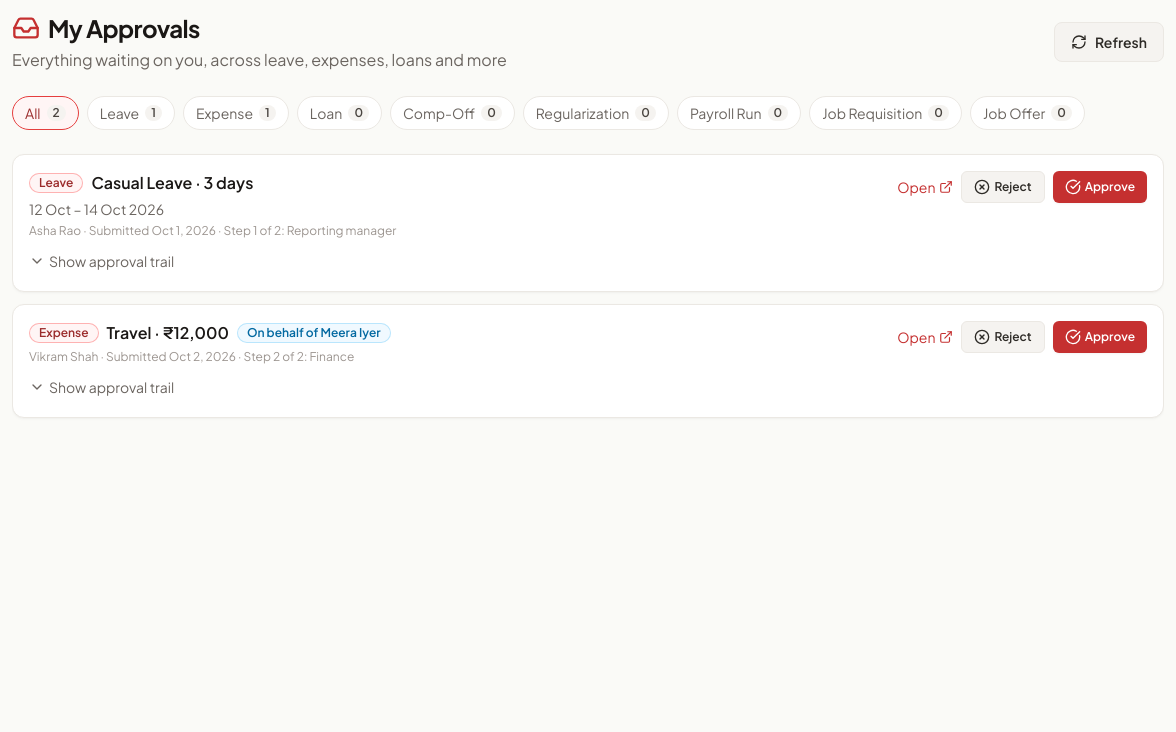
Scenario: MyApprovalsPage › loads the approval trail only when expanded
Expected: the text "Casual Leave · 3 days" is shown, [91, 171, 253, 195]
Click the button "Show approval trail" below "Asha Rao ·".
click(102, 261)  # box [29, 251, 174, 271]
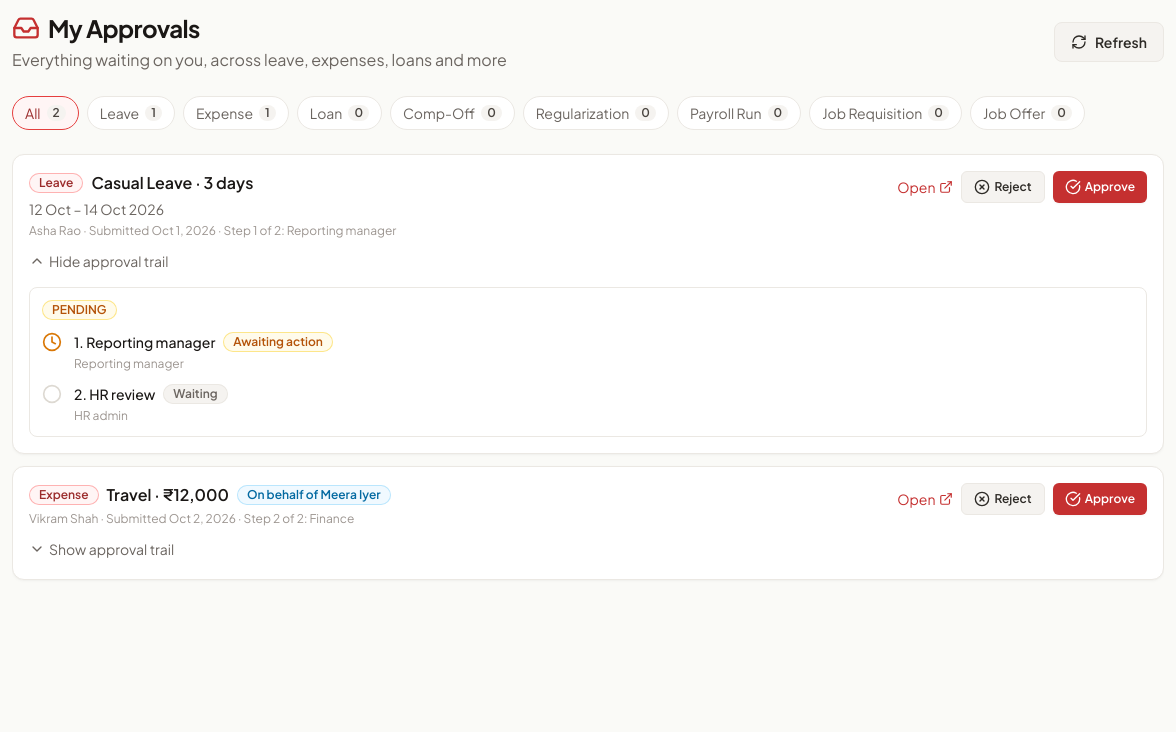
Now the text "2. HR review" is shown, box [74, 384, 155, 404]
Now the text "Awaiting action" is shown, box [223, 332, 333, 352]
